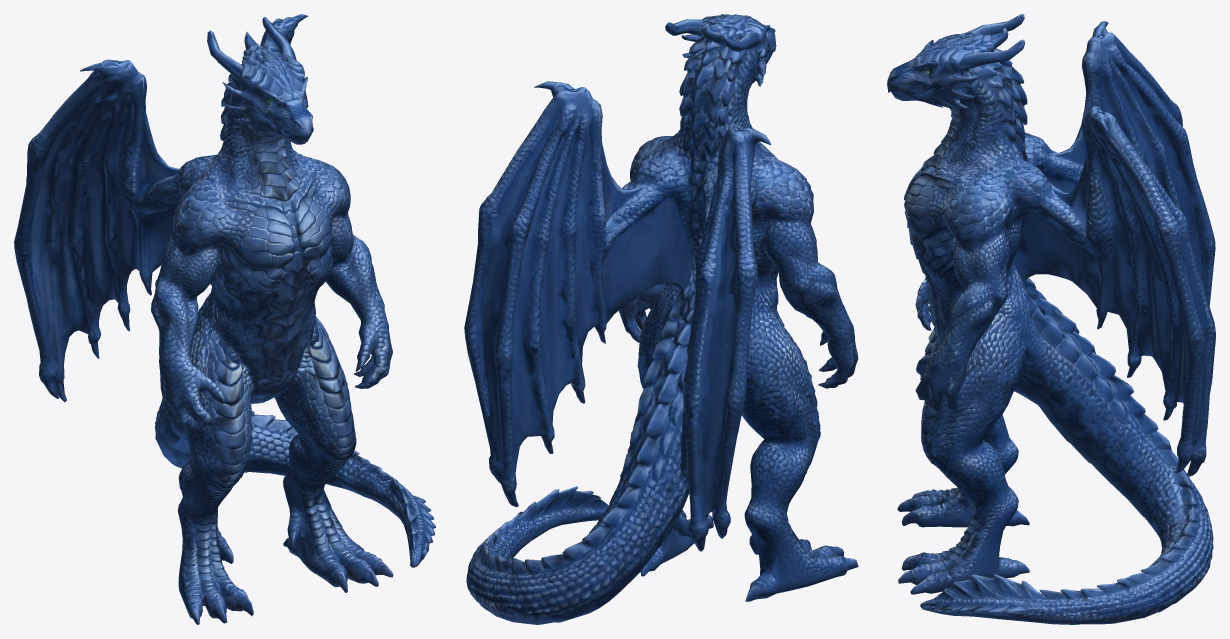
The model's file is dragon.glb.
The picture shows the model from 3 angles, left to right: view 1: azimuth 30°, elevation 25°; view 2: azimuth 150°, elevation 25°; view 3: azimuth 270°, elevation 25°; orthographic projection. The views are drawn at different scales.
Size of the model in its own units: 1.16 by 1.9 by 1.08.
Materials: 1 (1 with a texture image).
